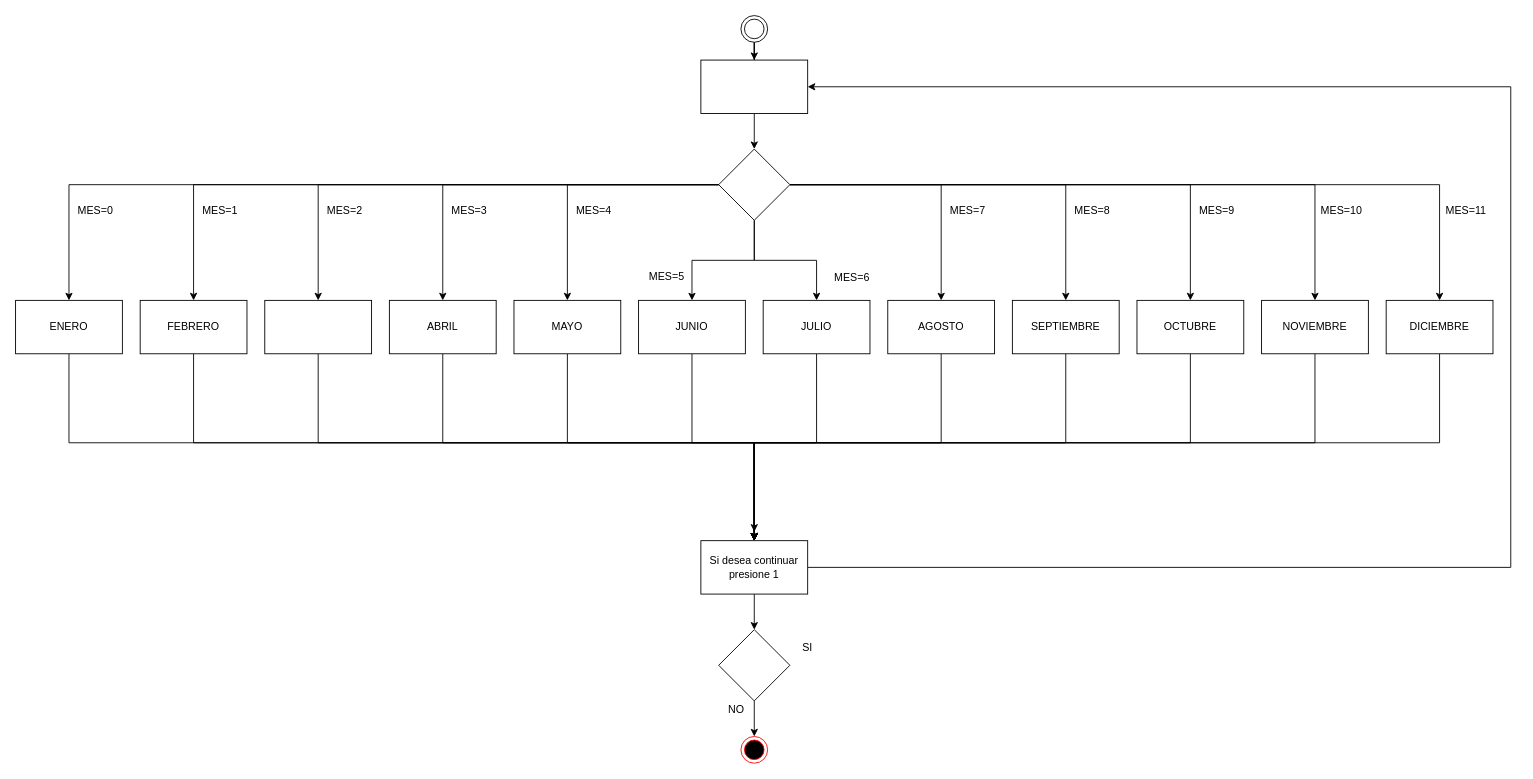
The diagram is 1533 pixels wide and 779 high, and some of its shapes have lost their labels. The shapes that lost their labels are listed below. From the top down, each one's centre as x and y in pixels, then its label:
the point at 754,86: introduzca numero de mes
the point at 318,326: MARZO
the point at 754,665: opcion==1
